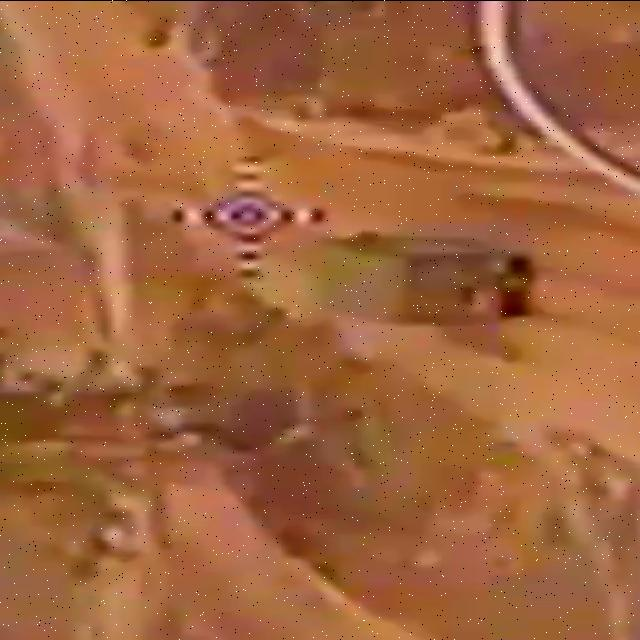CAR: (303, 232, 525, 328)
